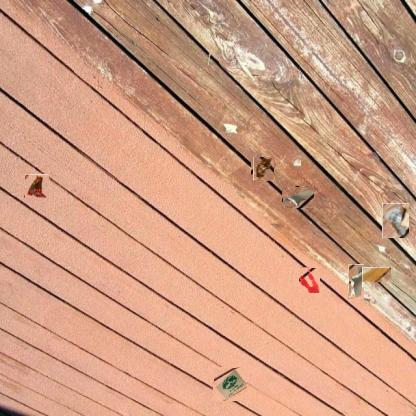dirty: (213, 367, 247, 401), (382, 203, 409, 238), (282, 186, 314, 208), (24, 175, 49, 199), (348, 264, 364, 299), (252, 158, 275, 181)
liquid: (298, 267, 320, 293), (362, 267, 391, 282)
